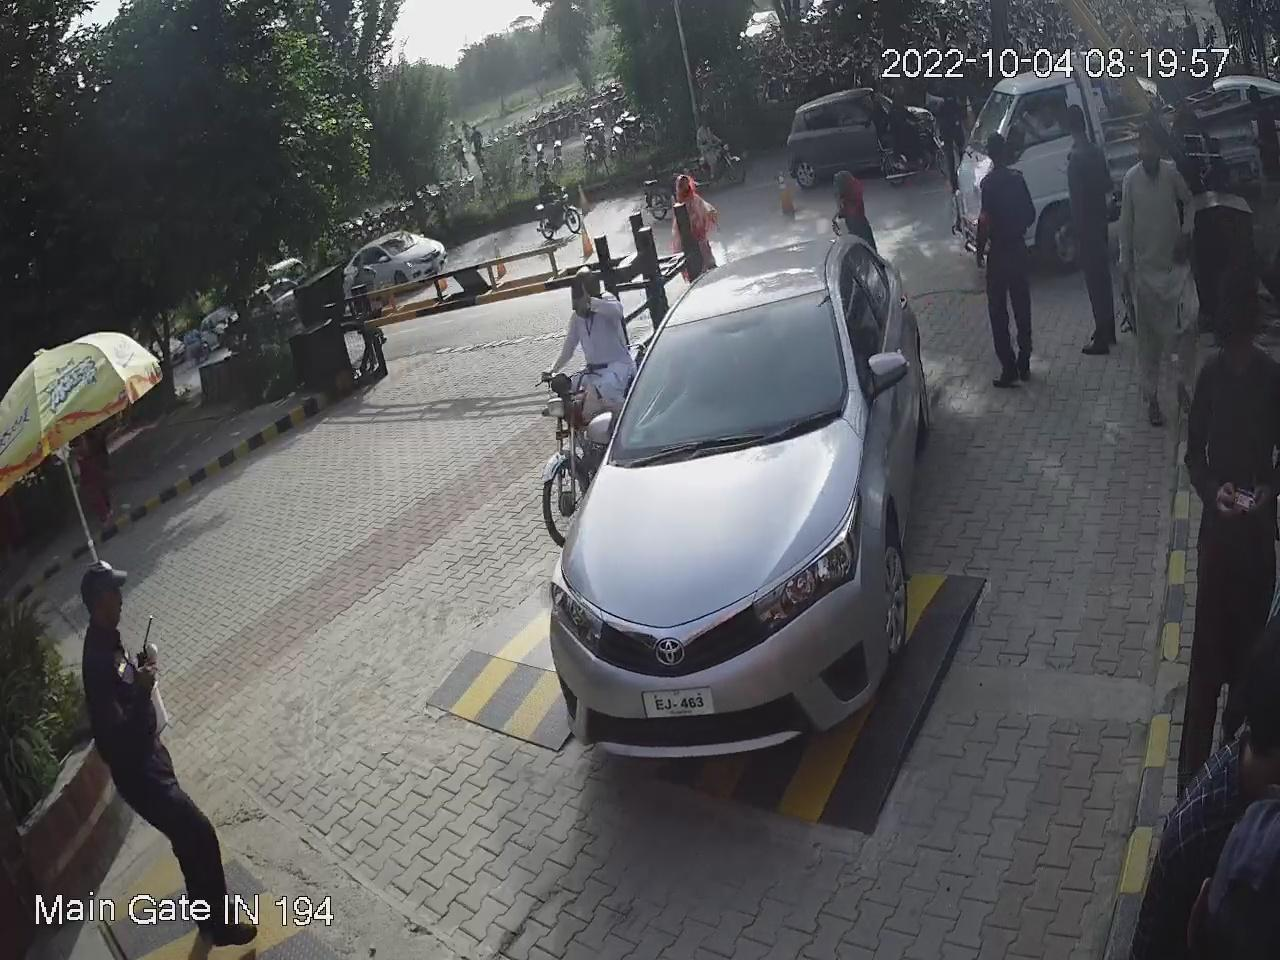windshield: (603, 290, 843, 468)
